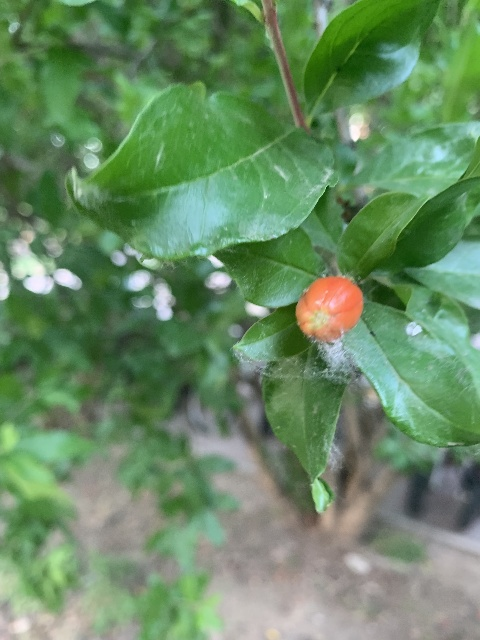bud: (295, 276, 363, 342)
